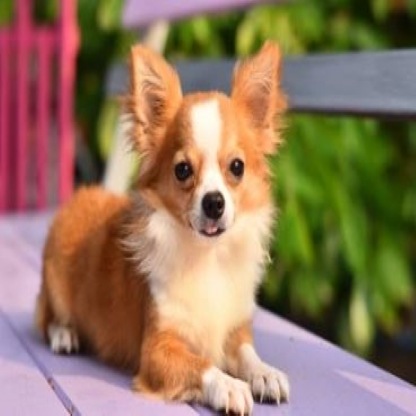chihuahua: (36, 36, 292, 413)
